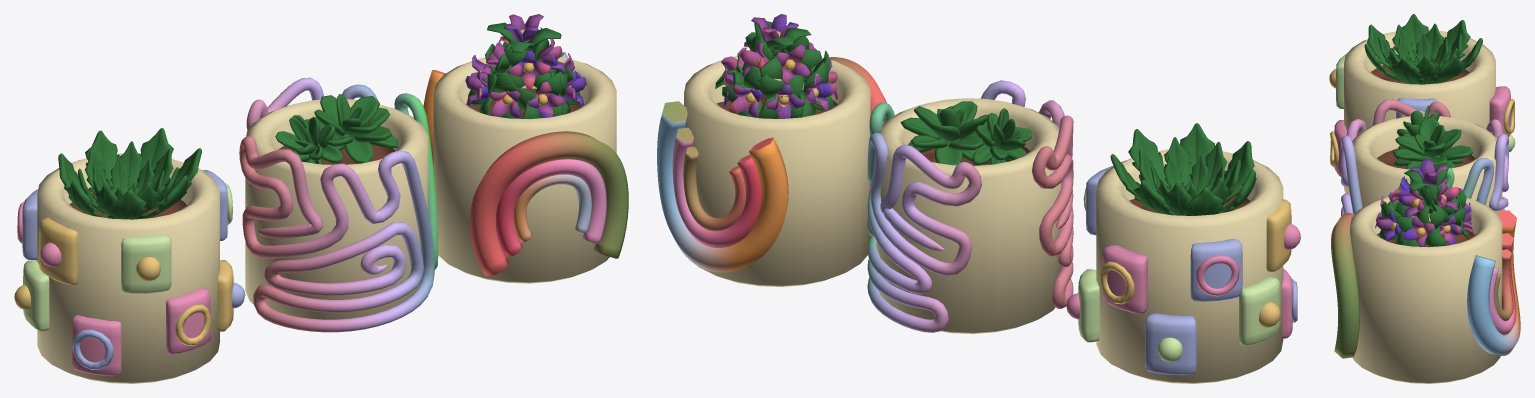
File: clay.glb
The picture shows the model from 3 angles, left to right: view 1: azimuth 30°, elevation 25°; view 2: azimuth 150°, elevation 25°; view 3: azimuth 270°, elevation 25°; orthographic projection. The views are drawn at different scales.
Parts seen in each view (by area): view 1: pot3, pot2, pot1; view 2: pot1, pot2, pot3; view 3: pot1, pot3, pot2.
Part boxes in pixels (x1,y1,x2,y2): pot3: [14, 128, 245, 383]; pot2: [239, 77, 438, 332]; pot1: [423, 14, 628, 283]; pot1: [657, 14, 886, 286]; pot2: [867, 80, 1073, 333]; pot3: [1066, 123, 1300, 383]; pot1: [1331, 159, 1520, 383]; pot3: [1329, 14, 1515, 192]; pot2: [1341, 99, 1508, 215].
Size of the model in its own units: 7.38 by 2.73 by 2.51.
10 materials, 3 textured.
